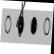correct: (30, 15, 38, 36)
not correct: (15, 1, 26, 40)
